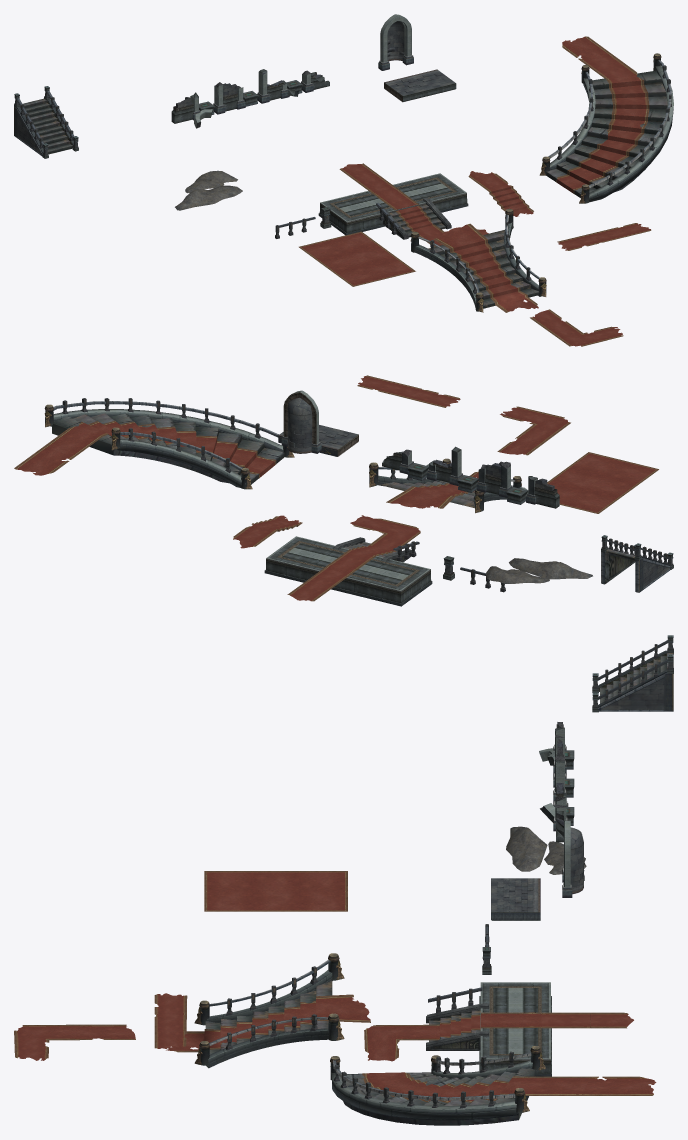
Rendered from f_103_floor_c.FBX.
The picture shows the model from 3 angles, top to bottom: view 1: azimuth 30°, elevation 25°; view 2: azimuth 150°, elevation 25°; view 3: azimuth 270°, elevation 25°; orthographic projection. The views are drawn at different scales.
Parts seen in each view (by area): view 1: f_103_floor_c06, f_103_carpet_04, f_103_floor_c01, f_103_floor_c07, Plane001, f_103_floor_c10, f_103_carpet_05, f_103_floor_c11, f_103_carpet_01, f_103_floor_c09, f_103_floor_c08, f_103_carpet_06 (+5 smaller); view 2: f_103_floor_c06, f_103_floor_c01, f_103_carpet_04, f_103_floor_c10, Plane001, f_103_carpet_01, f_103_floor_c11, f_103_floor_c09, f_103_carpet_06, f_103_floor_c07, f_103_carpet_05, f_103_carpet_03 (+5 smaller); view 3: f_103_floor_c06, f_103_floor_c07, Plane001, f_103_carpet_01, f_103_carpet_04, f_103_floor_c01, f_103_floor_c11, f_103_carpet_05, f_103_carpet_06, f_103_floor_c10, f_103_floor_c08, f_103_carpet_03 (+3 smaller).
Part boxes in pixels (x1,y1,x2,y2): f_103_floor_c06: (539,53,673,203); f_103_carpet_04: (555,36,649,194); f_103_floor_c01: (318,173,468,235); f_103_floor_c07: (410,208,546,312); Plane001: (299,231,415,286); f_103_floor_c10: (171,69,329,128); f_103_carpet_05: (433,223,538,312); f_103_floor_c11: (14,86,78,158); f_103_carpet_01: (339,163,488,246); f_103_floor_c09: (378,14,413,70); f_103_floor_c08: (384,69,456,102); f_103_carpet_06: (530,309,623,346); f_103_floor_c06: (44,398,294,489); f_103_floor_c01: (264,536,432,606); f_103_carpet_04: (14,421,276,478); f_103_floor_c10: (382,446,559,508); Plane001: (547,452,658,513); f_103_carpet_01: (287,515,420,601); f_103_floor_c11: (601,535,673,592); f_103_floor_c09: (281,390,321,453); f_103_carpet_06: (497,406,570,455); f_103_floor_c07: (369,458,521,513); f_103_carpet_05: (386,471,478,508); f_103_carpet_03: (357,375,460,407); f_103_floor_c06: (330,1046,545,1125); f_103_floor_c07: (194,953,344,1068); Plane001: (204,871,347,911); f_103_carpet_01: (364,1012,633,1061); f_103_carpet_04: (362,1072,656,1103); f_103_floor_c01: (479,982,551,1076); f_103_floor_c11: (592,635,673,712); f_103_carpet_05: (166,994,370,1052); f_103_carpet_06: (14,1024,135,1060); f_103_floor_c10: (539,722,574,842); f_103_floor_c08: (491,878,540,920); f_103_carpet_03: (154,993,187,1048).
Bounding box in the file's own units: 7502 × 2229 × 5546.
